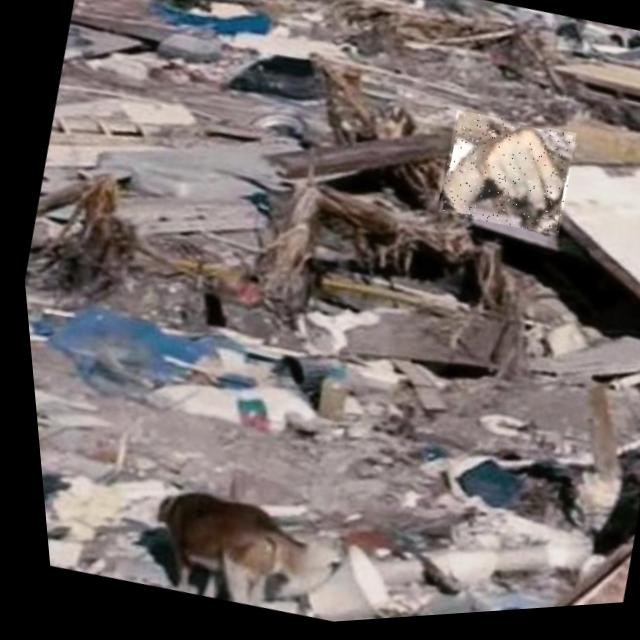Person in Rubble: (427, 110, 580, 249)
